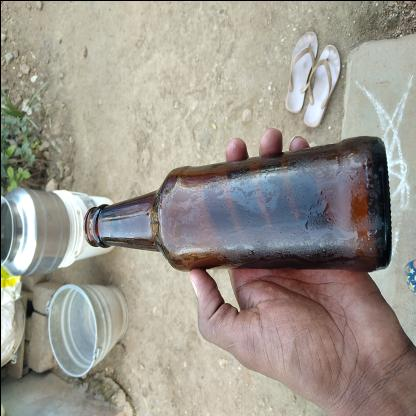bottle: (110, 108, 214, 416)
